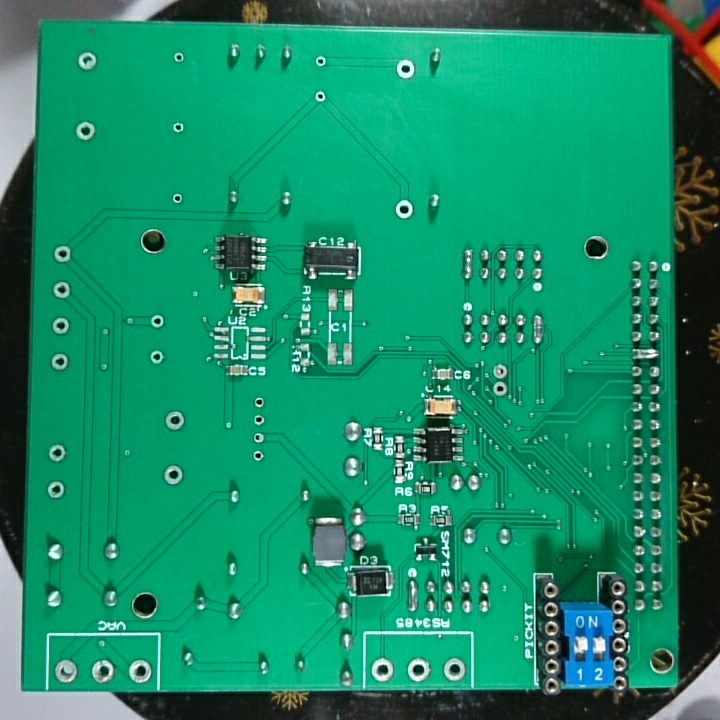F: (88, 658, 118, 685), (405, 656, 433, 684), (126, 658, 155, 685), (441, 655, 469, 682), (53, 657, 79, 686), (161, 406, 187, 435), (161, 463, 187, 489), (370, 656, 395, 683), (394, 56, 418, 80), (44, 480, 67, 505), (75, 50, 100, 73), (73, 120, 98, 143), (45, 442, 68, 466), (50, 281, 73, 303), (393, 196, 413, 221), (51, 244, 73, 265), (50, 316, 73, 336), (147, 346, 167, 367), (49, 352, 70, 372), (491, 361, 510, 381), (490, 378, 509, 398), (147, 313, 167, 332), (251, 394, 270, 412), (250, 412, 269, 429), (170, 49, 189, 66), (313, 52, 330, 71), (250, 447, 267, 465), (170, 118, 187, 136), (250, 429, 267, 446), (172, 191, 187, 207), (313, 89, 327, 105)
P: (530, 312, 549, 351), (629, 344, 662, 362), (404, 577, 420, 613), (459, 246, 475, 281)
